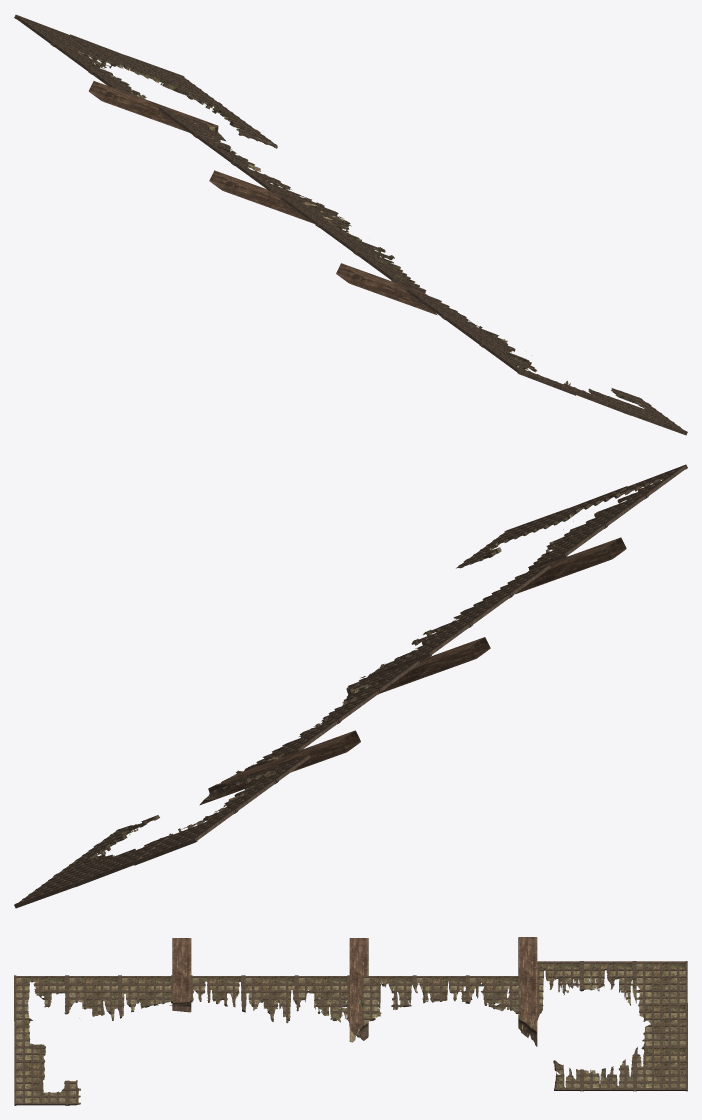
The model's file is SM_RoofParts 1.fbx.
3 renders of one model, top to bottom at view 1: azimuth 30°, elevation 25°; view 2: azimuth 150°, elevation 25°; view 3: azimuth 270°, elevation 25°, orthographic. The views are drawn at different scales.
Parts seen in each view (by area): view 1: SM_RoofParts_LOD0; view 2: SM_RoofParts_LOD0; view 3: SM_RoofParts_LOD0.
Boxes of the visible parts, x1,y1,x2,y2 form: SM_RoofParts_LOD0: (14, 14, 687, 435); SM_RoofParts_LOD0: (14, 464, 687, 908); SM_RoofParts_LOD0: (14, 937, 687, 1105).
Size of the model in its own units: 653 by 2417 by 372.
